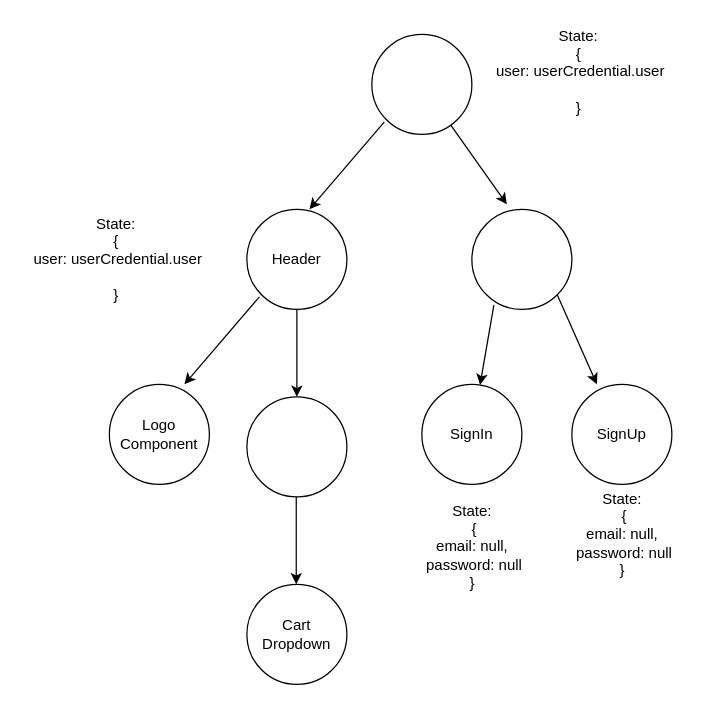
The diagram is 705 pixels wide and 706 high, and some of its shapes have lost their labels. Here are the shapes that lost their labels. From the top down, the centre of each, then its label:
[421,83]: App
[521,258]: SignInAndSignUp
[296,446]: Cart
